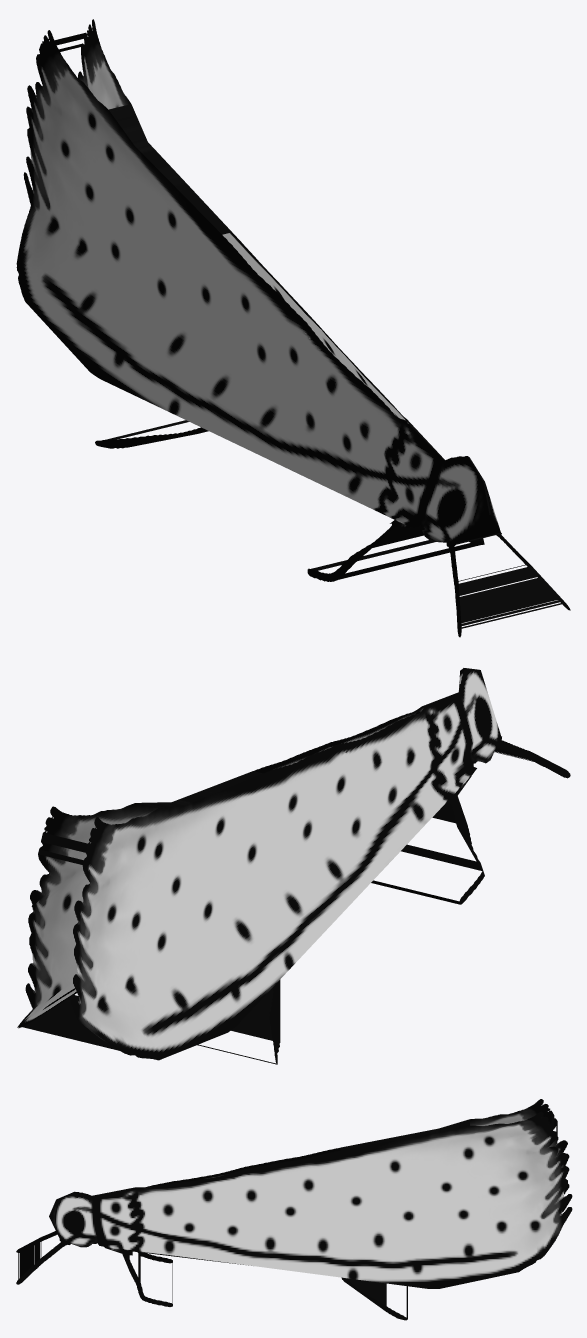
The model's file is erminesit.fbx.
3 renders of one model, top to bottom at view 1: azimuth 30°, elevation 25°; view 2: azimuth 150°, elevation 25°; view 3: azimuth 270°, elevation 25°, orthographic. The views are drawn at different scales.
Visible parts, largest first — view 1: 1674d470-7738-4446-9b19-d0bb3a2aa2c4; view 2: 1674d470-7738-4446-9b19-d0bb3a2aa2c4; view 3: 1674d470-7738-4446-9b19-d0bb3a2aa2c4.
Part boxes in pixels (box(x1,y1,x2,y2)): 1674d470-7738-4446-9b19-d0bb3a2aa2c4: box(16, 19, 570, 637); 1674d470-7738-4446-9b19-d0bb3a2aa2c4: box(17, 668, 570, 1064); 1674d470-7738-4446-9b19-d0bb3a2aa2c4: box(16, 1099, 572, 1320).
Size of the model in its own units: 0.239 by 0.3935 by 1.04.
